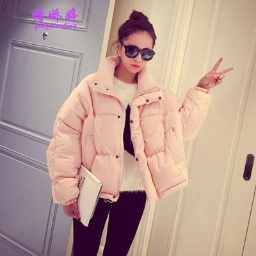face: (114, 9, 159, 77)
